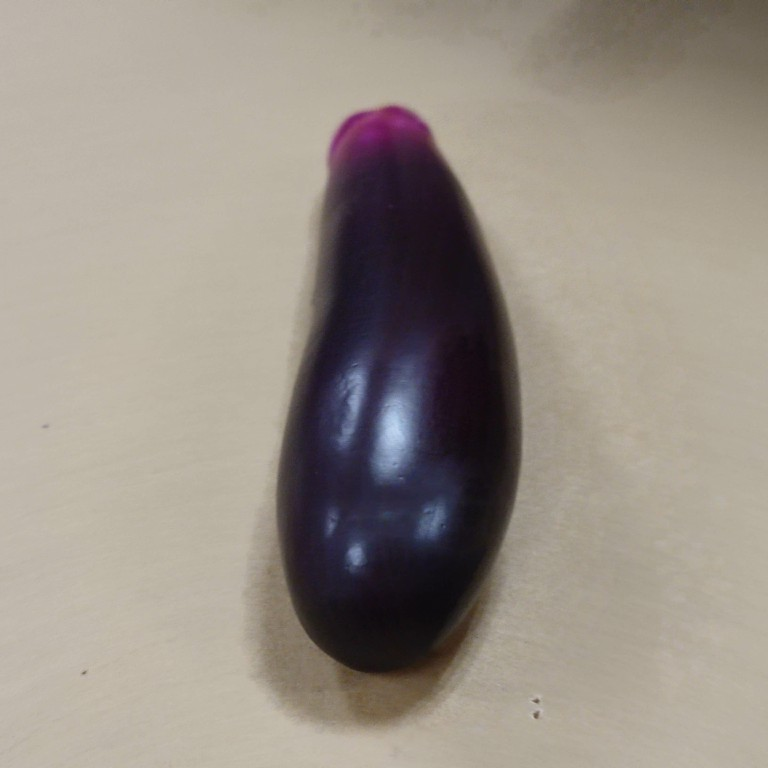fruit_eggplant: (269, 104, 524, 676)
